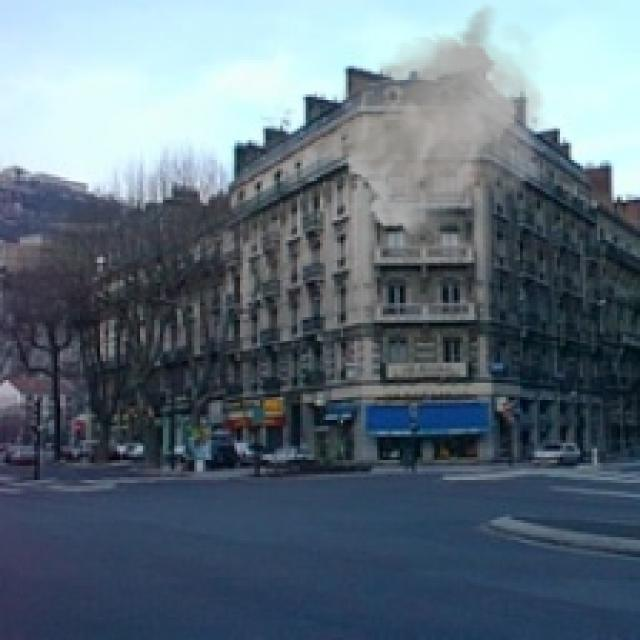Smoke: (297, 3, 552, 240)
